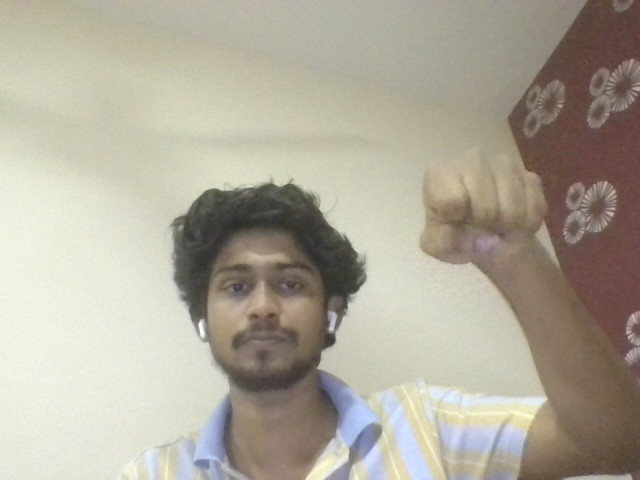yes: (413, 145, 573, 268)
